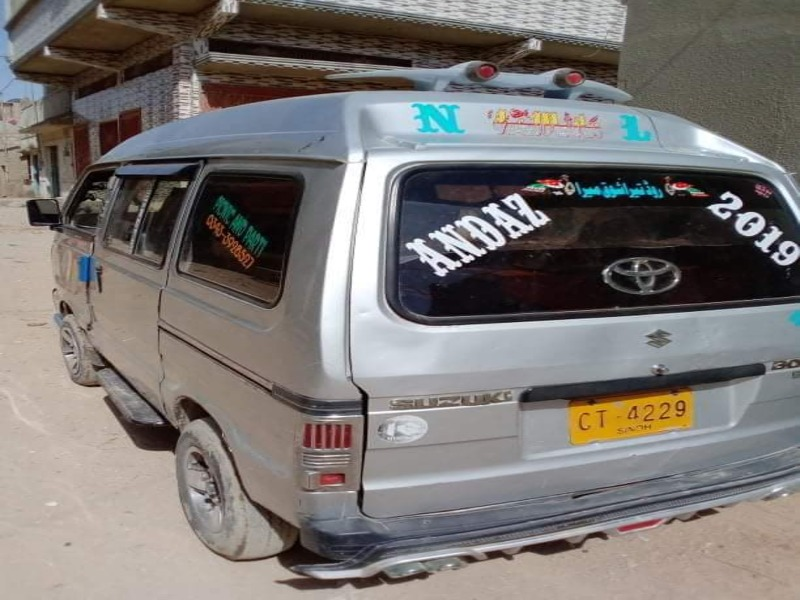License Plate: (566, 388, 697, 448)
